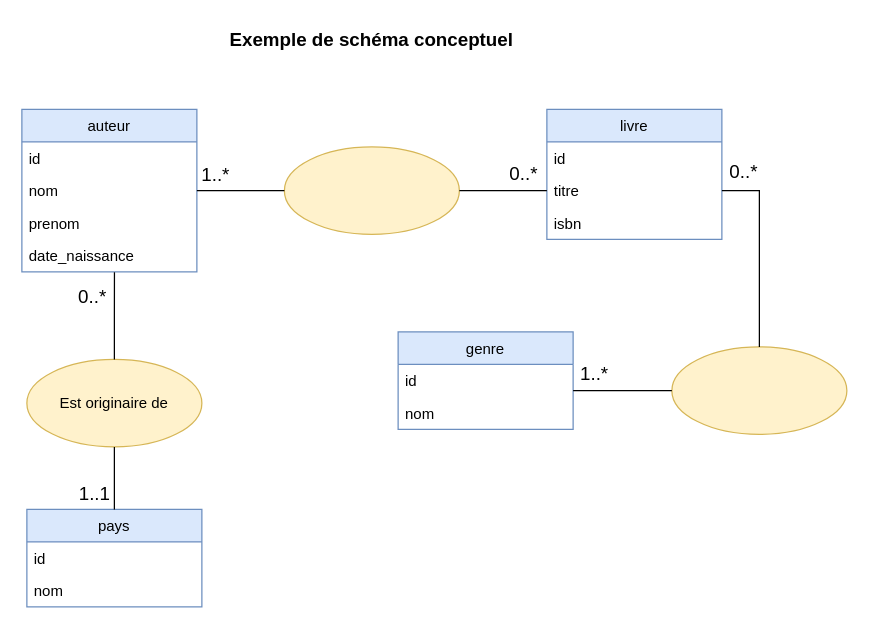
Some shapes in this 869 by 631 pixel diagram are drawn without their labels. Here are the shapes that lost their labels. From the top down, the centre of each, then its label:
point (371, 190): Rédige
point (759, 390): Appartient
